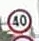limite 40: (6, 7, 32, 33)
